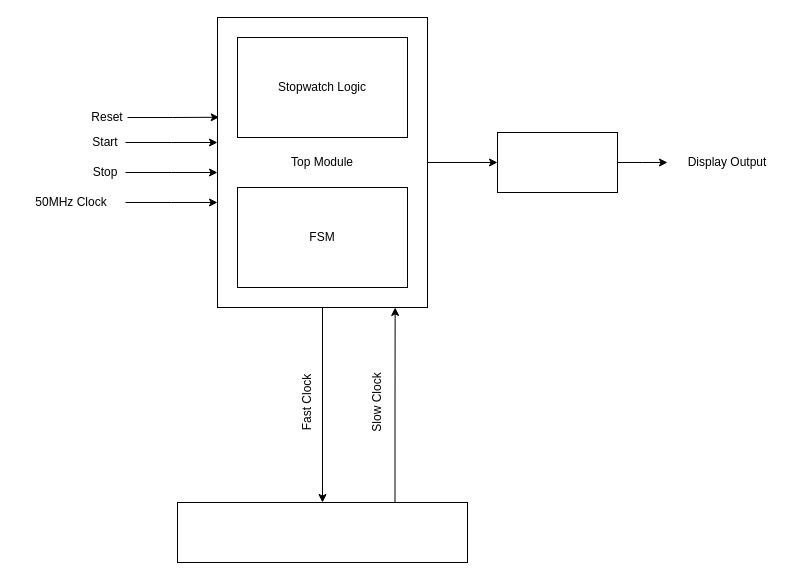
Some shapes in this 804 by 580 pixel diagram are drawn without their labels. The shapes that lost their labels are listed below. From the top down, each one's centre as x and y in pixels, then its label:
the point at 557,162: 7 Segment Display Decoder
the point at 322,532: Clock divider
